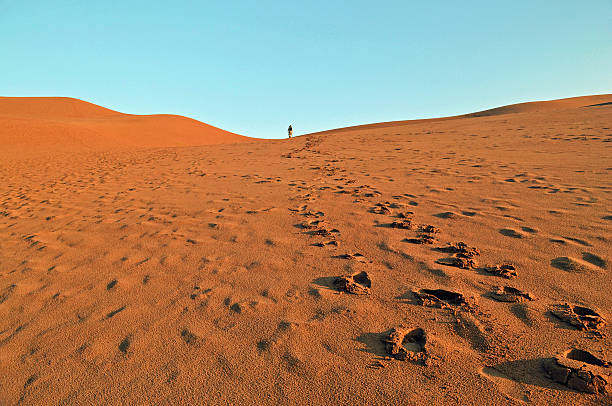human_foot_print: (543, 348, 611, 393), (382, 327, 426, 361), (551, 303, 605, 329), (436, 242, 479, 268), (561, 251, 608, 274), (376, 207, 423, 230), (413, 289, 467, 306), (333, 271, 371, 294), (404, 225, 439, 244), (490, 286, 534, 301), (343, 246, 371, 268), (294, 203, 323, 223), (482, 263, 517, 278), (506, 223, 538, 236)
